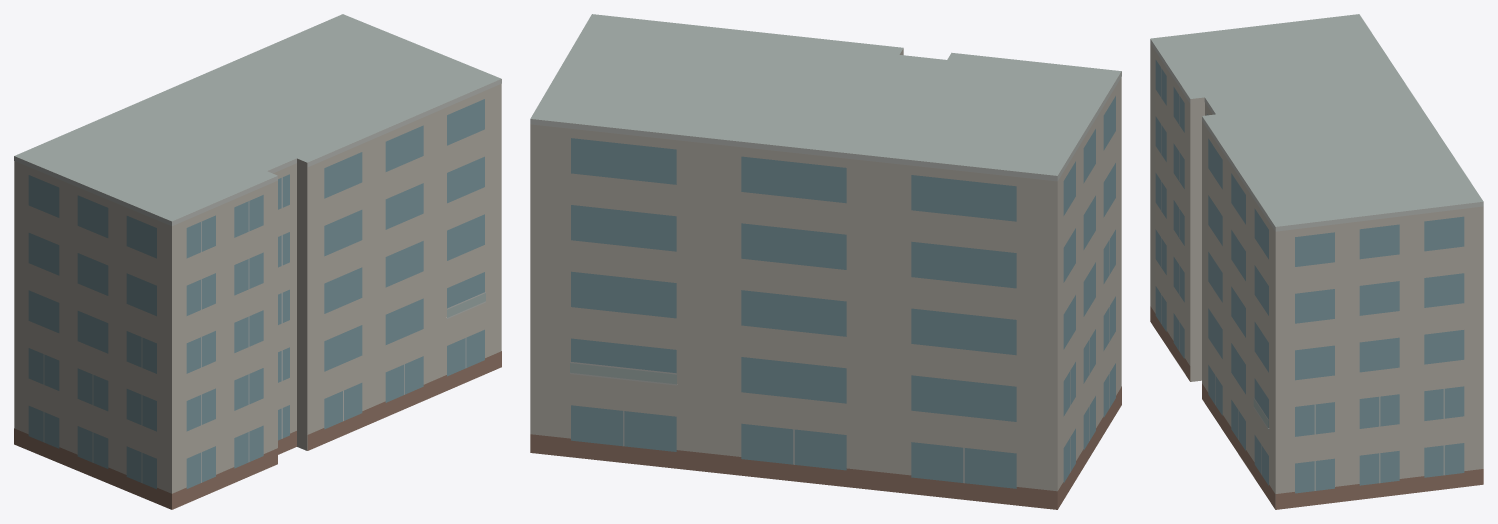
File: survey-upis-32773702.glb
The picture shows the model from 3 angles, left to right: view 1: azimuth 30°, elevation 25°; view 2: azimuth 150°, elevation 25°; view 3: azimuth 270°, elevation 25°; orthographic projection. The views are drawn at different scales.
Visible parts, largest first — view 1: survey-upis-32773702.tmp; view 2: survey-upis-32773702.tmp; view 3: survey-upis-32773702.tmp.
Part boxes in pixels (bbox=[...]): survey-upis-32773702.tmp: bbox=[14, 14, 501, 509]; survey-upis-32773702.tmp: bbox=[530, 14, 1121, 509]; survey-upis-32773702.tmp: bbox=[1150, 14, 1483, 509].
Size of the model in its own units: 23.66 by 14.65 by 15.66.
